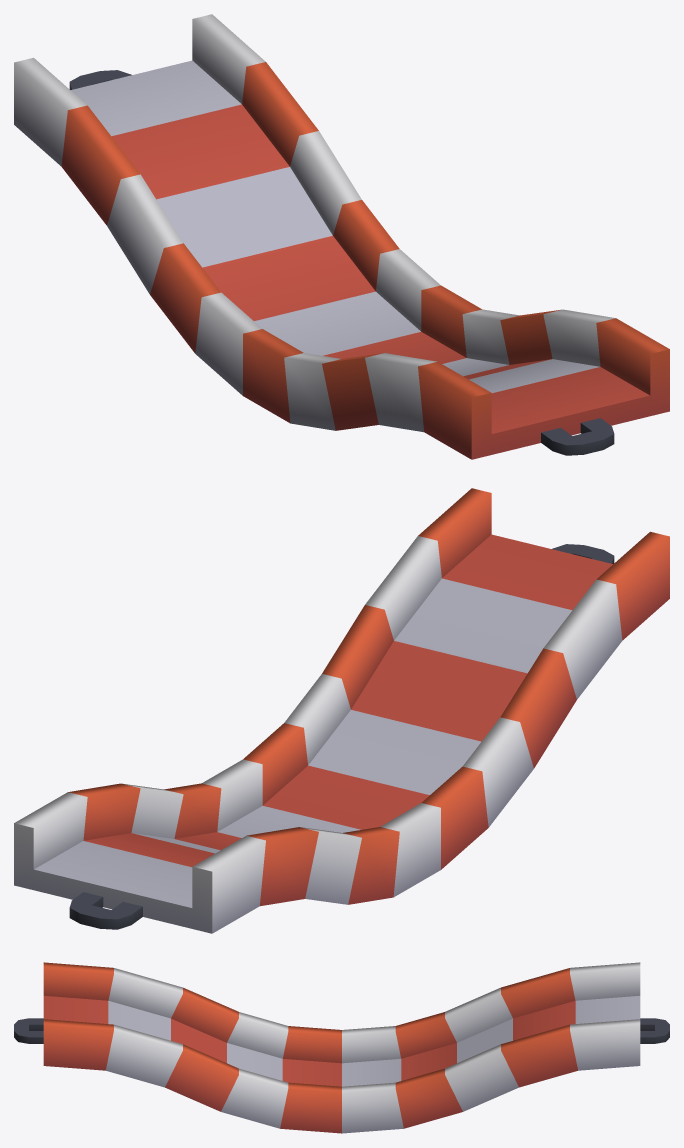
The model's file is track-striped-narrow-straight-bump-down.glb.
The picture shows the model from 3 angles, top to bottom: view 1: azimuth 30°, elevation 25°; view 2: azimuth 150°, elevation 25°; view 3: azimuth 270°, elevation 25°; orthographic projection. The views are drawn at different scales.
Parts seen in each view (by area): view 1: track-striped-narrow-straight-bump-down; view 2: track-striped-narrow-straight-bump-down; view 3: track-striped-narrow-straight-bump-down.
Boxes of the visible parts, bbox=[...] form: track-striped-narrow-straight-bump-down: bbox=[14, 14, 669, 459]; track-striped-narrow-straight-bump-down: bbox=[14, 488, 669, 933]; track-striped-narrow-straight-bump-down: bbox=[14, 962, 669, 1133].
Bounding box in the file's own units: 1 × 0.8 × 4.4.
